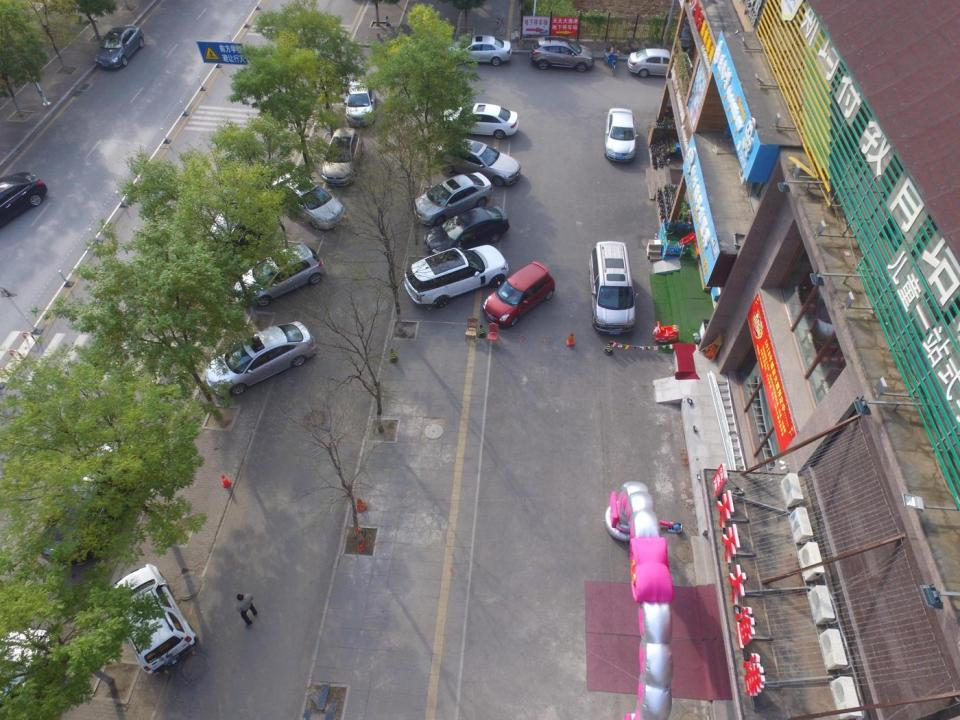car: (38, 432, 154, 566), (108, 564, 199, 677), (204, 320, 313, 397), (404, 243, 506, 308), (232, 243, 323, 312), (482, 264, 564, 326), (0, 626, 56, 716), (409, 172, 490, 228), (426, 205, 506, 261), (438, 138, 519, 188), (281, 176, 344, 229), (0, 169, 45, 241), (437, 102, 518, 139), (92, 24, 144, 71), (531, 32, 595, 70), (320, 128, 362, 185), (441, 36, 513, 66), (628, 46, 691, 80), (606, 108, 637, 164), (341, 79, 376, 127)
van: (590, 242, 636, 338)
